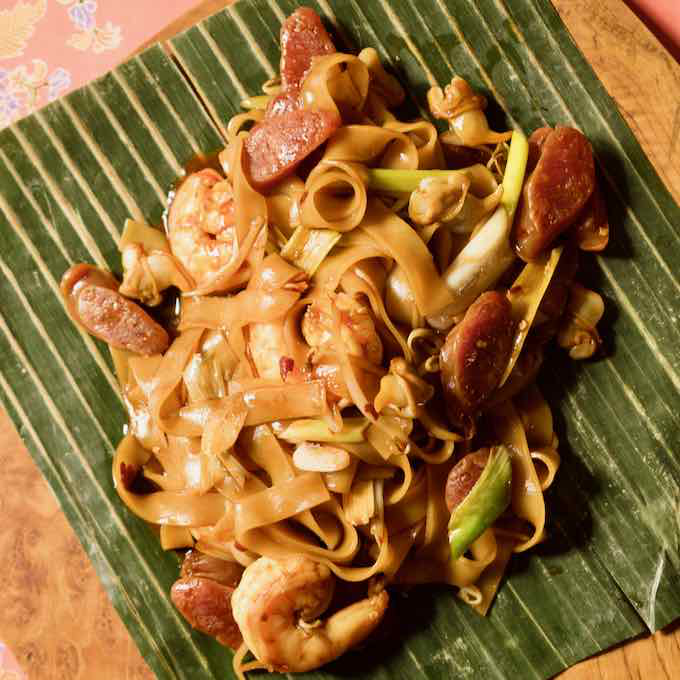Char Kway Teow: (89, 47, 623, 635)
